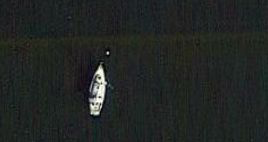boat: (87, 61, 107, 118)
